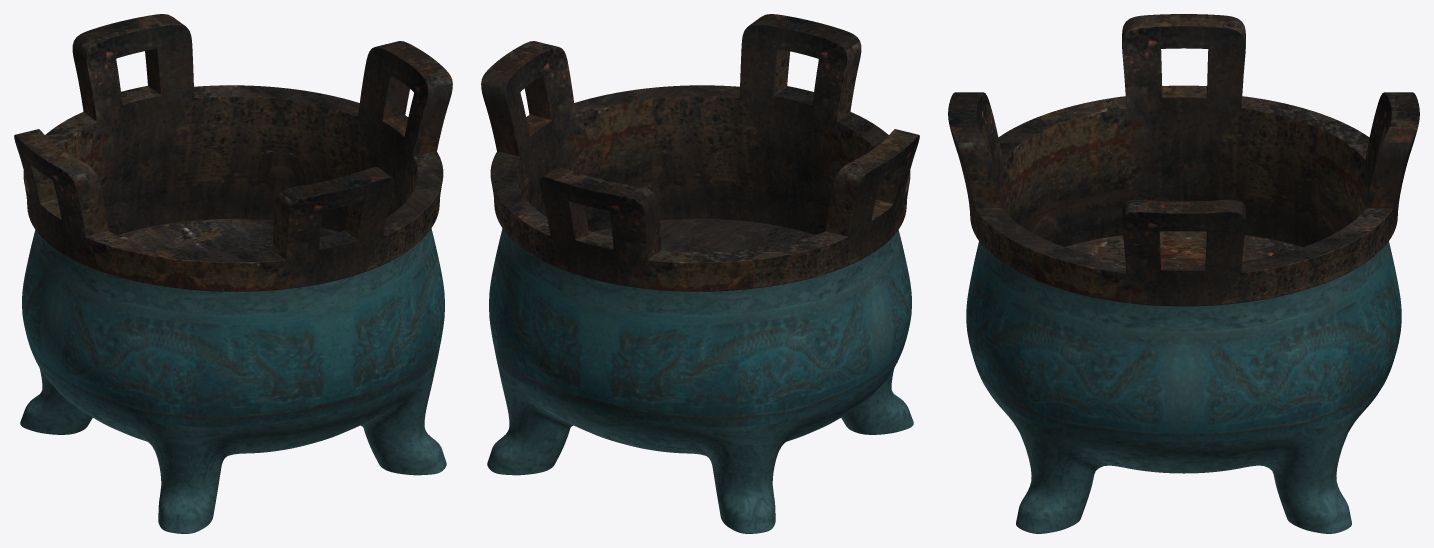
File: ToExport.fbx
3 views of the same model, side by side, from view 1: azimuth 30°, elevation 25°; view 2: azimuth 150°, elevation 25°; view 3: azimuth 270°, elevation 25° (orthographic). The views are drawn at different scales.
Parts seen in each view (by area): view 1: Ding_Baked; view 2: Ding_Baked; view 3: Ding_Baked.
Part boxes in pixels (box(x1,y1,x2,y2)): Ding_Baked: box(14, 14, 452, 533); Ding_Baked: box(481, 14, 919, 533); Ding_Baked: box(948, 14, 1419, 533).
Bounding box in the file's own units: 219 × 179 × 219.
Materials: 1 (1 with a texture image).
